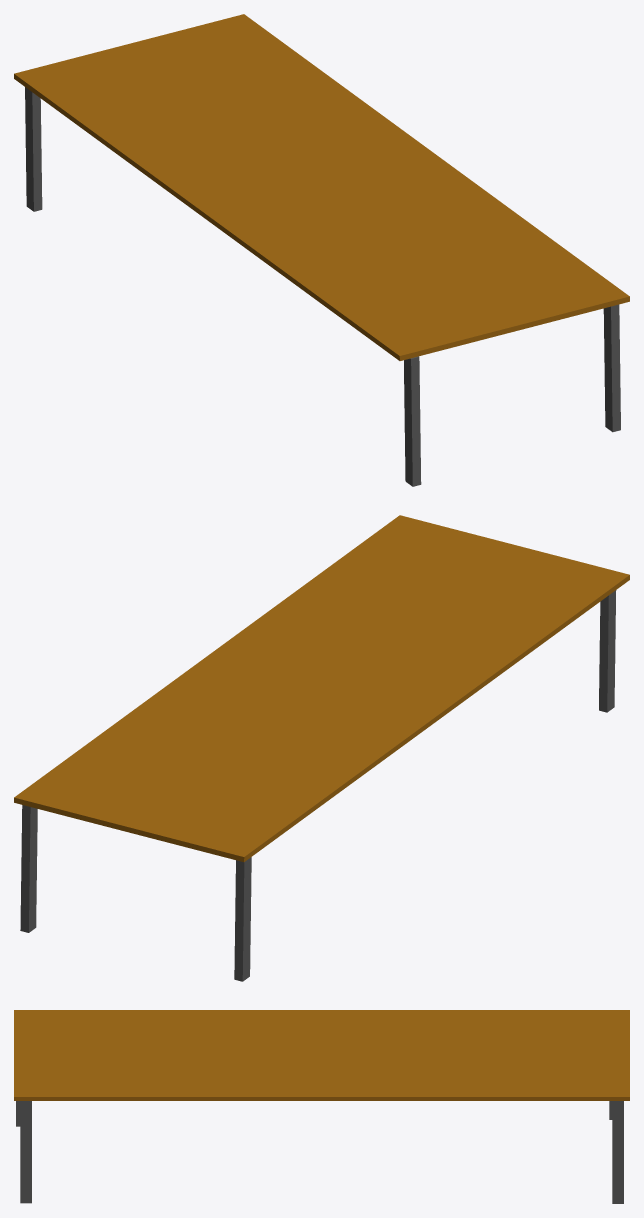
File: Meja.fbx
3 renders of one model, top to bottom at view 1: azimuth 30°, elevation 25°; view 2: azimuth 150°, elevation 25°; view 3: azimuth 270°, elevation 25°, orthographic. The views are drawn at different scales.
Parts seen in each view (by area): view 1: Cube.004, Cube, Cube.003, Cube.001; view 2: Cube.004, Cube.002, Cube.001, Cube; view 3: Cube.004, Cube.002, Cube.003.
Boxes of the visible parts, left/top/right/bottom form: Cube.004: left=14, top=14, right=629, bottom=360; Cube: left=404, top=356, right=421, bottom=486; Cube.003: left=603, top=304, right=620, bottom=432; Cube.001: left=25, top=87, right=42, bottom=211; Cube.004: left=14, top=515, right=629, bottom=862; Cube.002: left=20, top=805, right=37, bottom=932; Cube.001: left=234, top=857, right=251, bottom=981; Cube: left=599, top=590, right=616, bottom=712; Cube.004: left=14, top=1010, right=629, bottom=1100; Cube.002: left=612, top=1101, right=623, bottom=1203; Cube.003: left=20, top=1101, right=31, bottom=1203.
Size of the model in its own units: 1419 by 817 by 4118.
